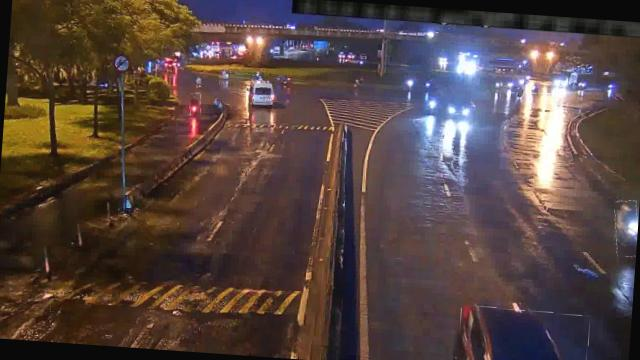Bike: (612, 199, 639, 258), (188, 92, 202, 115)
Bus: (247, 80, 280, 109)
Car: (457, 305, 590, 360)
